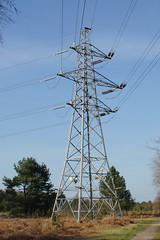power_tower: (48, 22, 131, 225)
